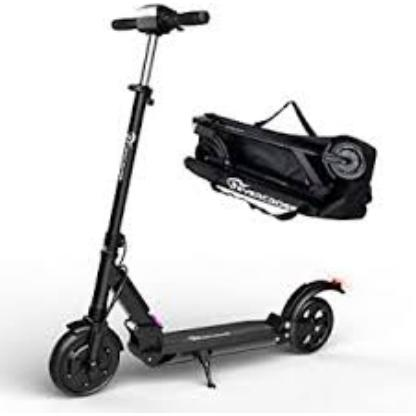bike: (46, 3, 361, 397)
